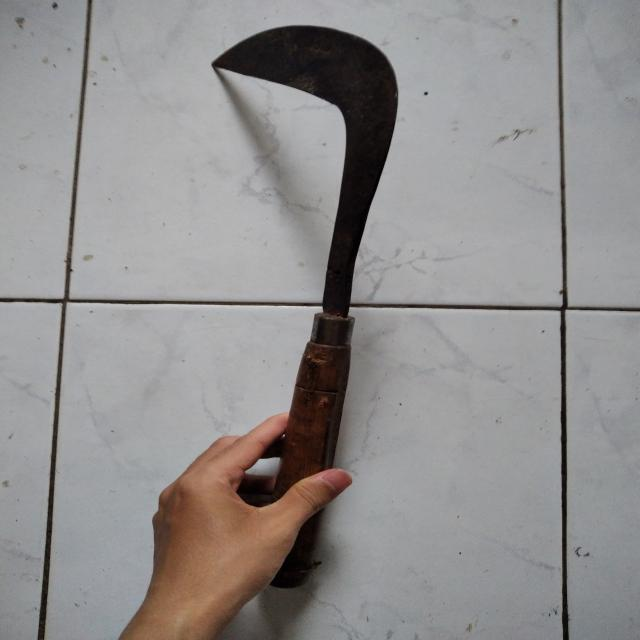Knife: (208, 22, 398, 594)
